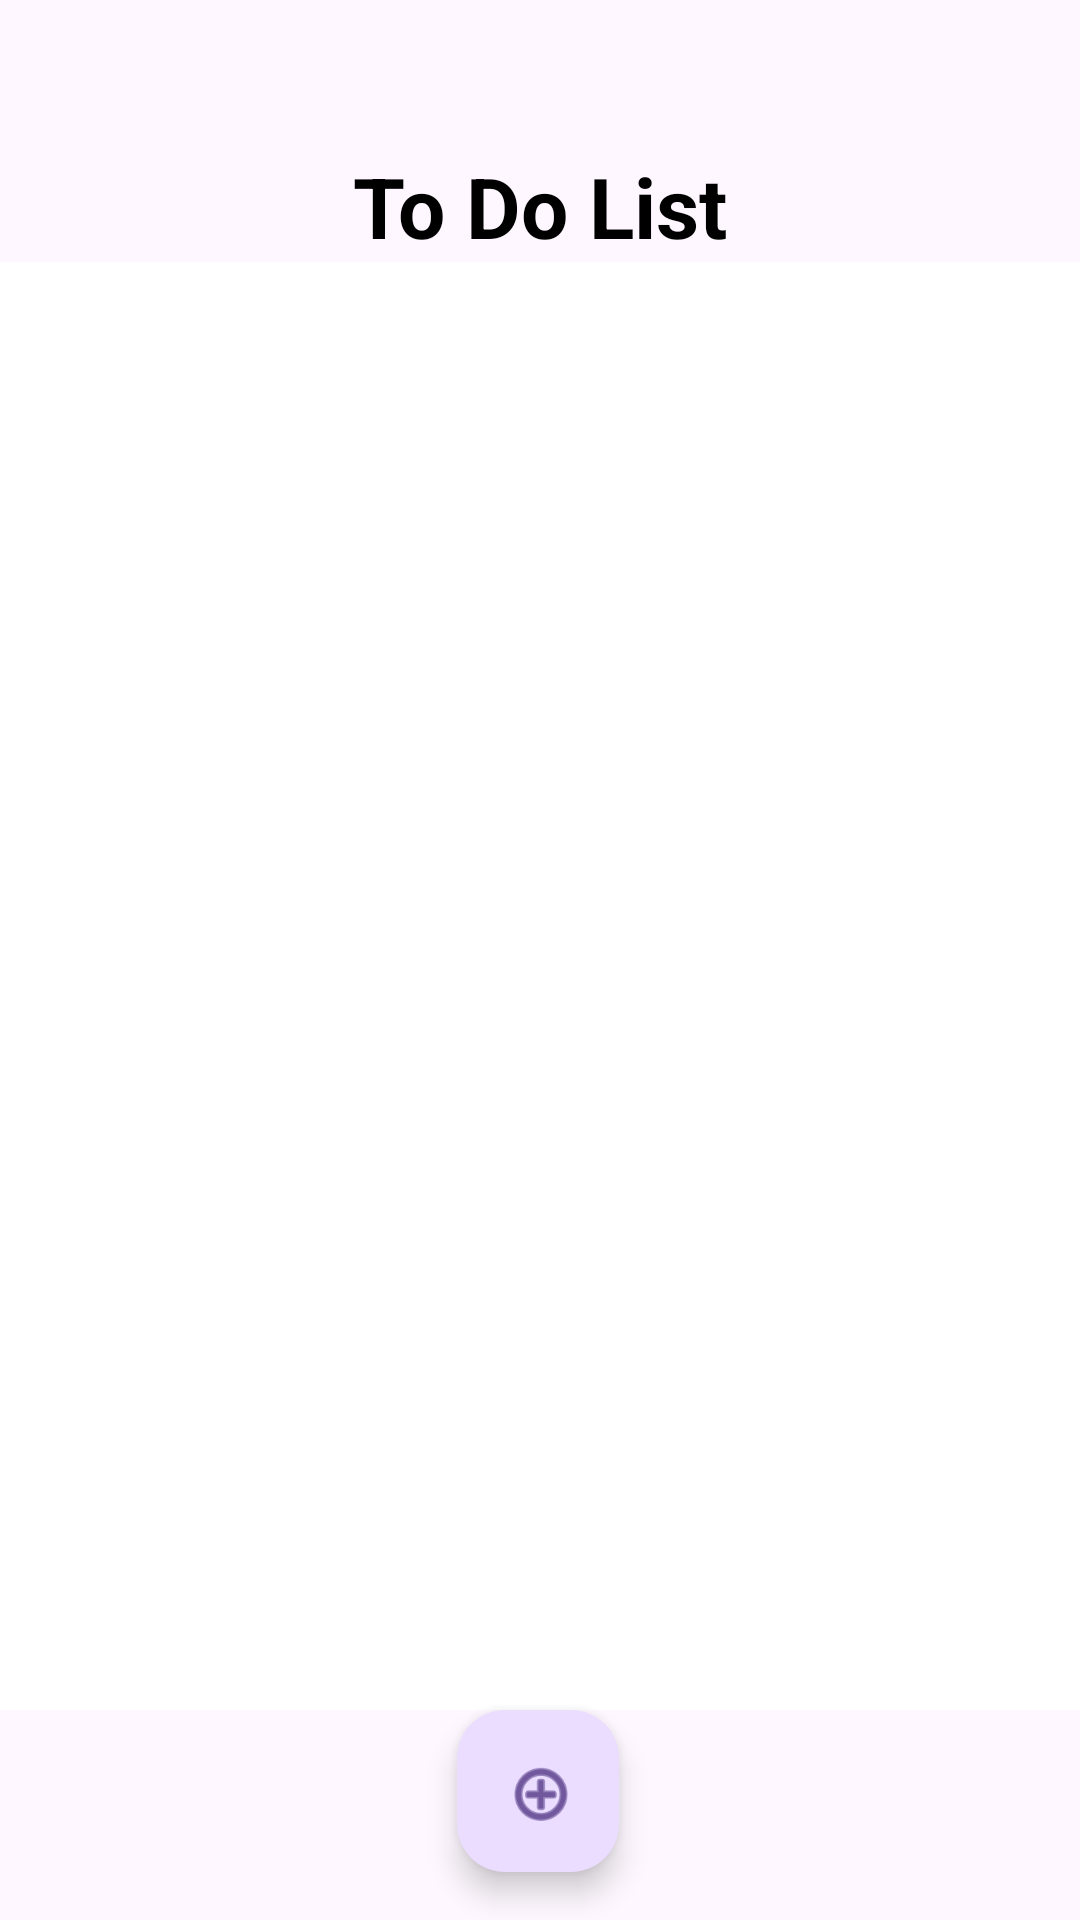

Named icons in this screenshot (1080w x 1920h) and their centers, point (x, y):
add: point (538, 1791)
